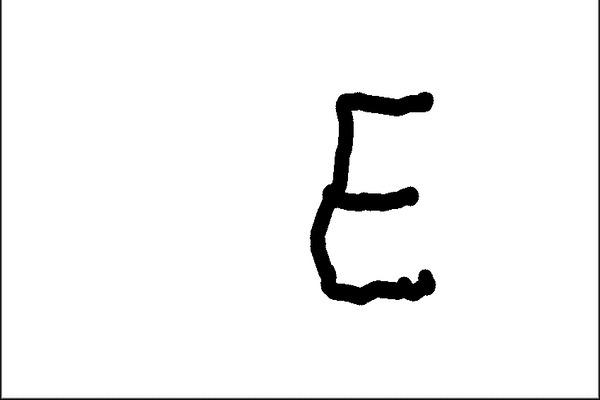E: (303, 86, 453, 311)
